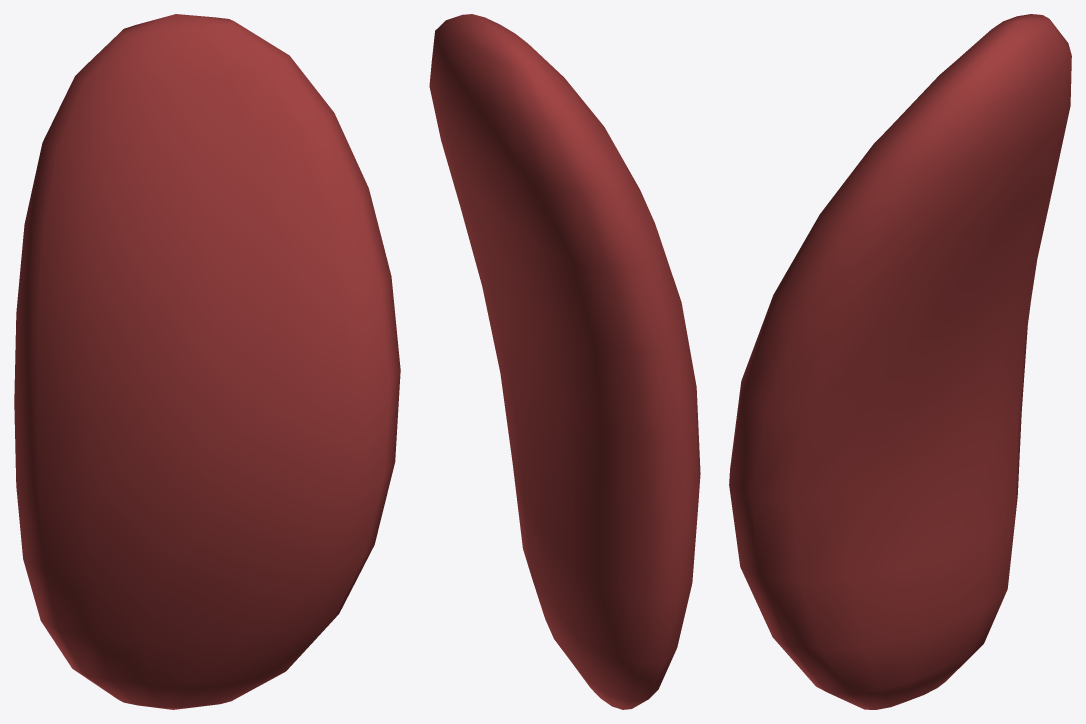
Rendered from bicipitoradial-bursa-l.glb.
3 views of the same model, side by side, from view 1: azimuth 30°, elevation 25°; view 2: azimuth 150°, elevation 25°; view 3: azimuth 270°, elevation 25° (orthographic). The views are drawn at different scales.
Visible parts, largest first — view 1: Bicipitoradial bursa.l; view 2: Bicipitoradial bursa.l; view 3: Bicipitoradial bursa.l.
Part boxes in pixels (<box>): Bicipitoradial bursa.l: <box>14,14,400,709</box>; Bicipitoradial bursa.l: <box>429,14,700,709</box>; Bicipitoradial bursa.l: <box>729,14,1071,709</box>.
Bounding box in the file's own units: 0.00709 × 0.0154 × 0.00675.
